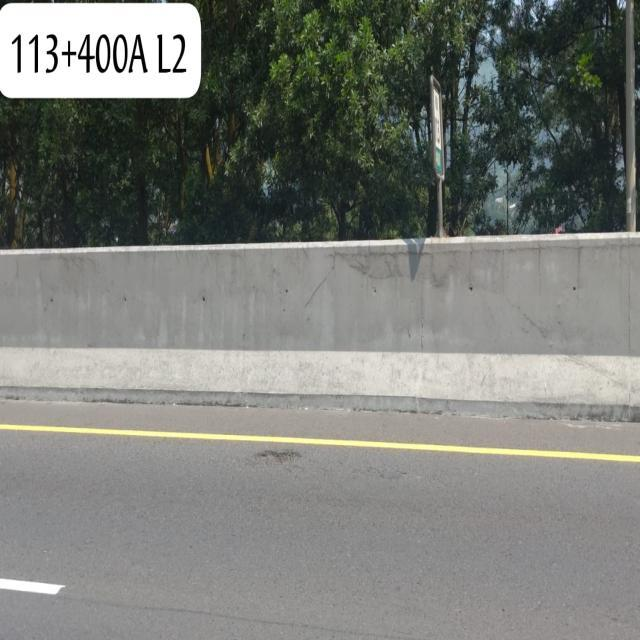Buraco: (251, 448, 306, 467)
